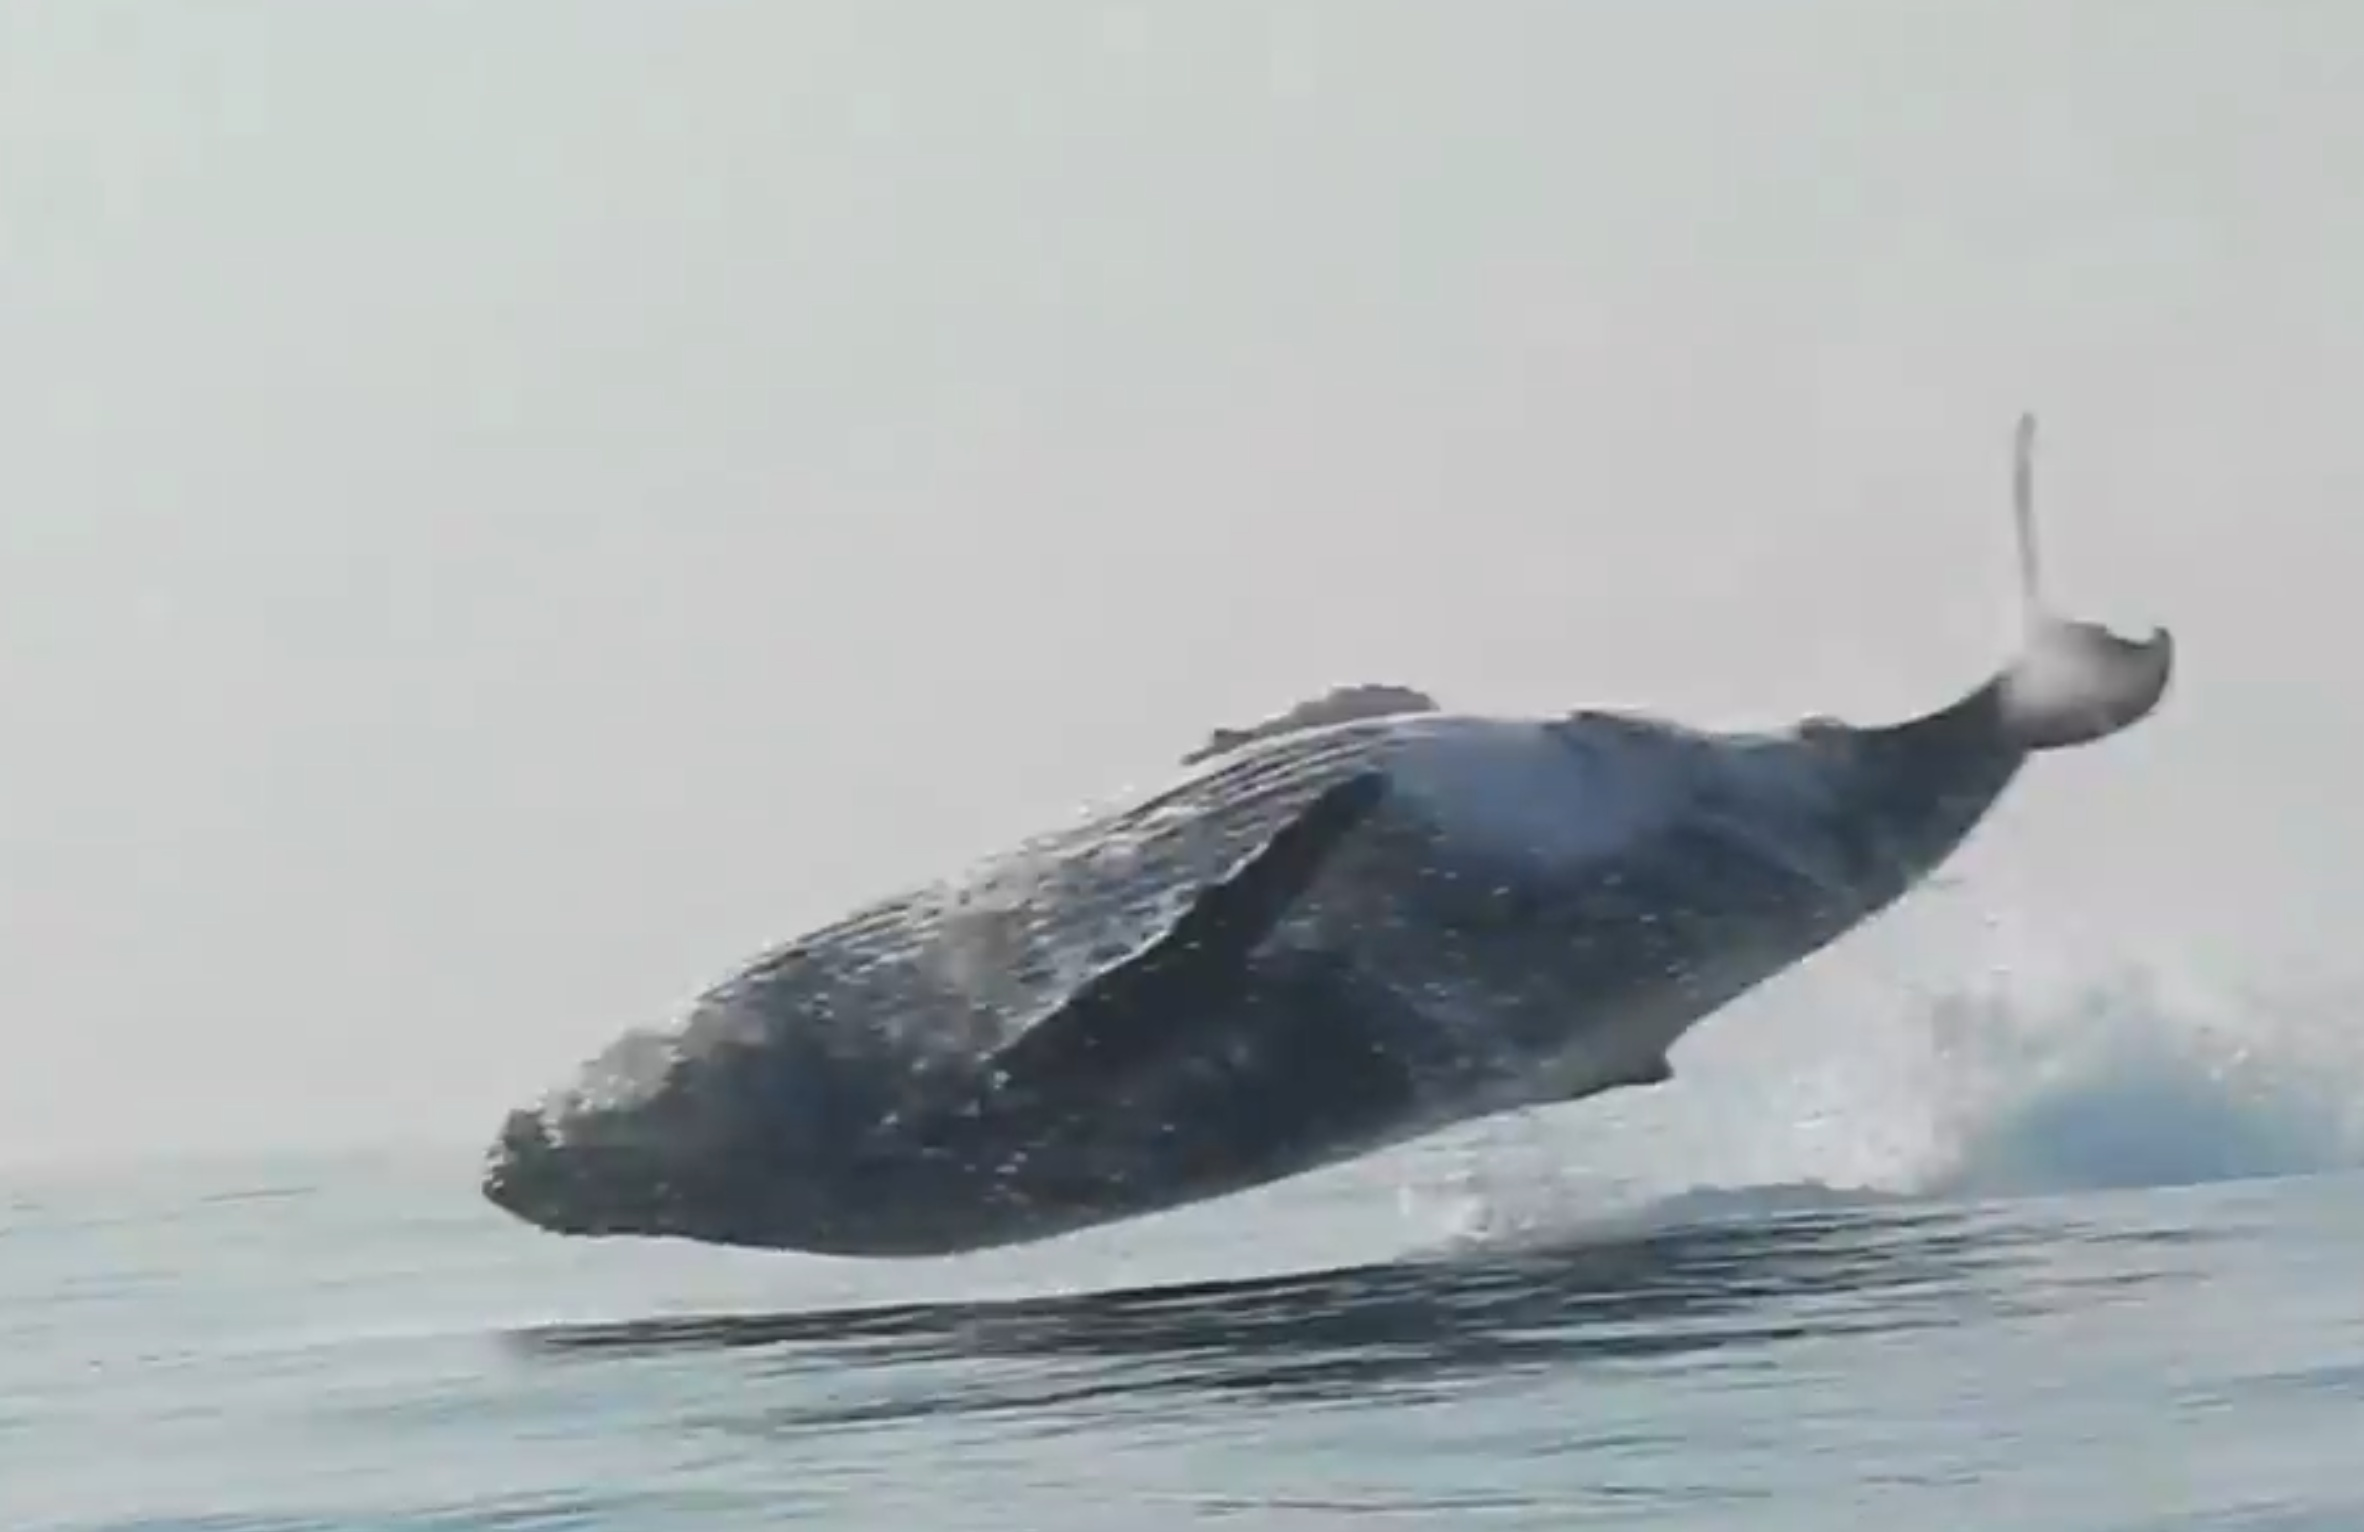humpback: (457, 669, 2114, 1263)
